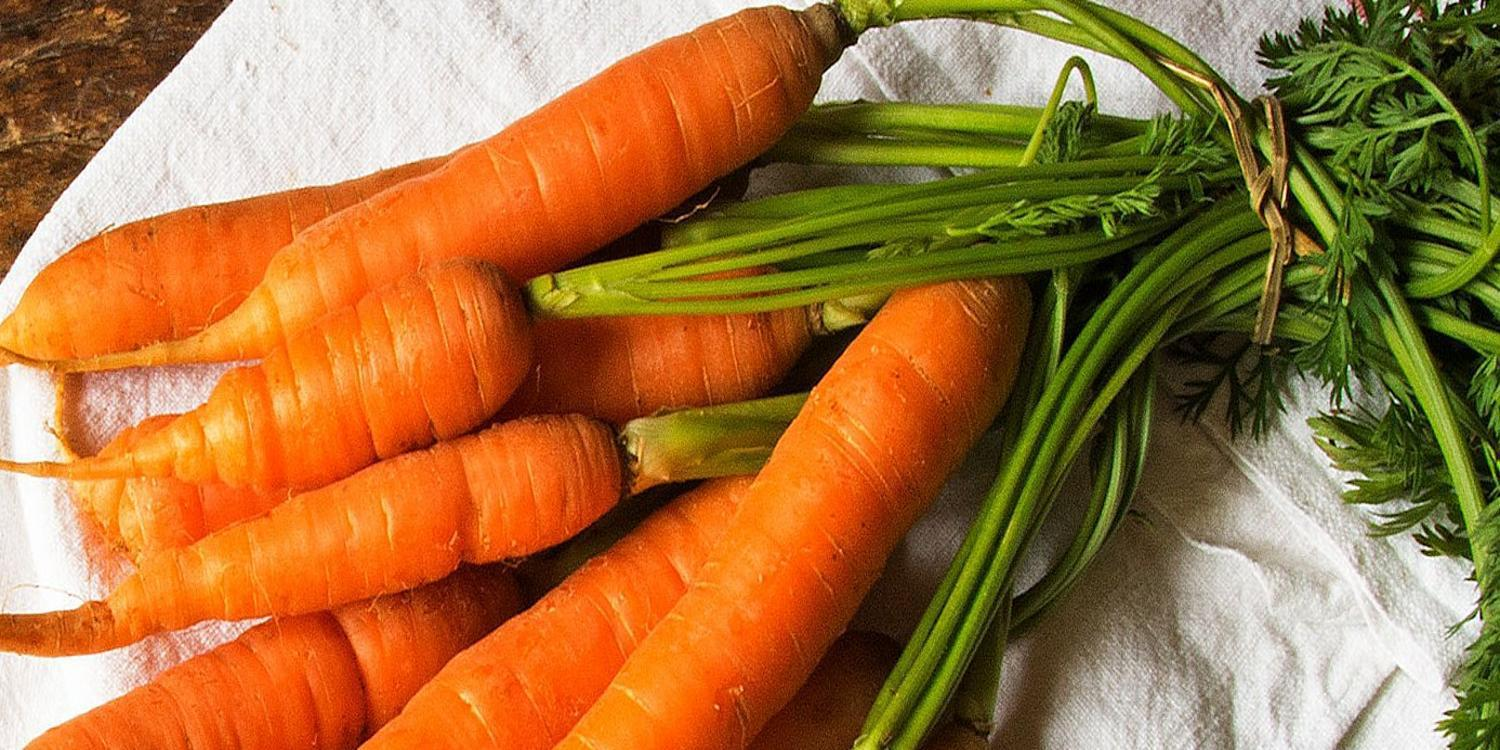carrot: (28, 8, 974, 750), (0, 266, 626, 622)
